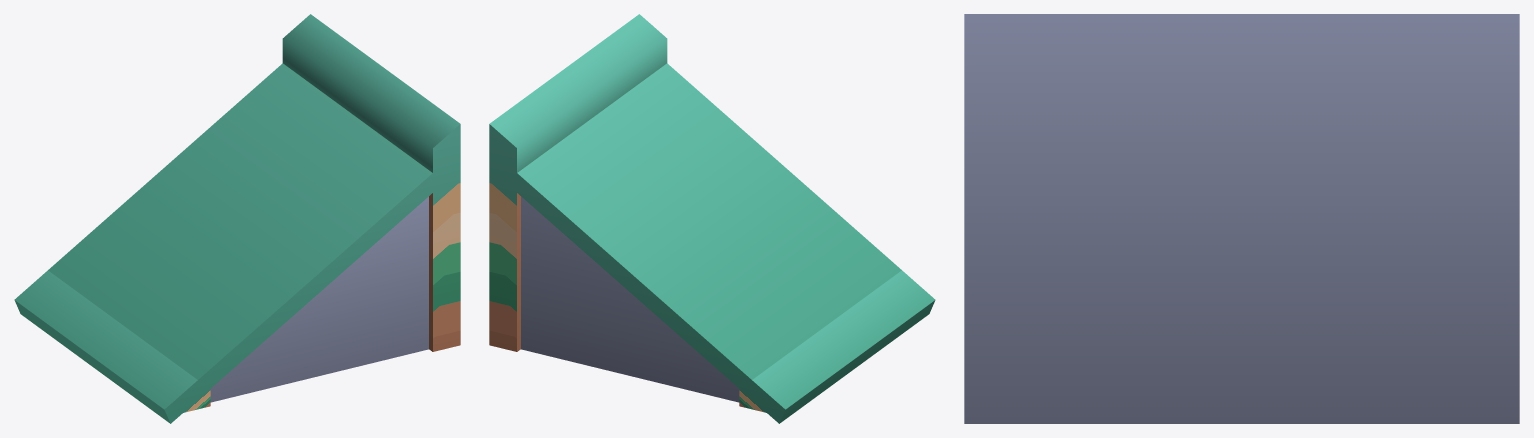
The model's file is roof_lev1.glb.
3 views of the same model, side by side, from view 1: azimuth 30°, elevation 25°; view 2: azimuth 150°, elevation 25°; view 3: azimuth 270°, elevation 25° (orthographic). The views are drawn at different scales.
Parts seen in each view (by area): view 1: roof_lev1; view 2: roof_lev1; view 3: roof_lev1.
Part boxes in pixels (x1,y1,x2,y2): roof_lev1: [14, 14, 460, 423]; roof_lev1: [489, 14, 935, 423]; roof_lev1: [964, 14, 1519, 423].
Bounding box in the file's own units: 14.59 × 10.8 × 12.81.
Materials: 1 (1 with a texture image).
